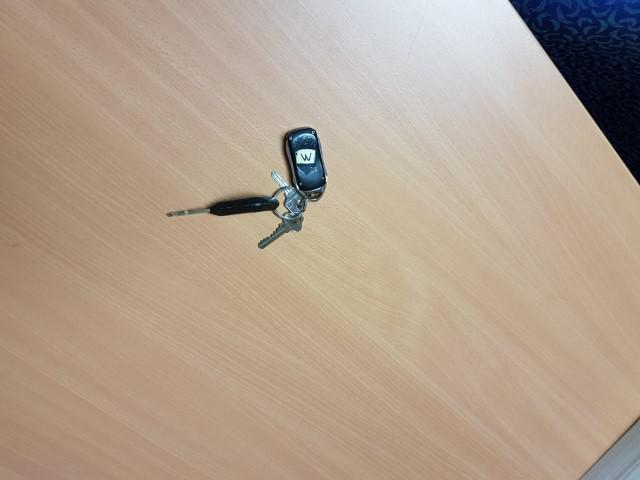key: (164, 190, 280, 225)
